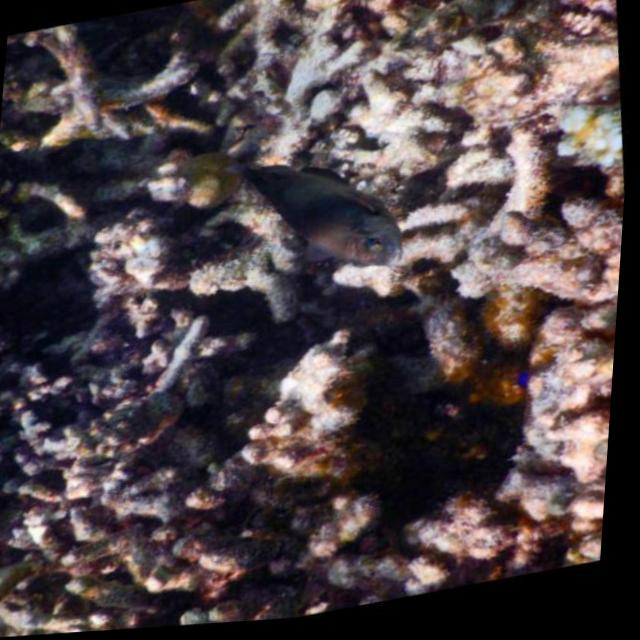Dead Coral: (204, 0, 640, 321), (0, 312, 269, 639), (226, 314, 464, 626), (0, 11, 168, 208)
